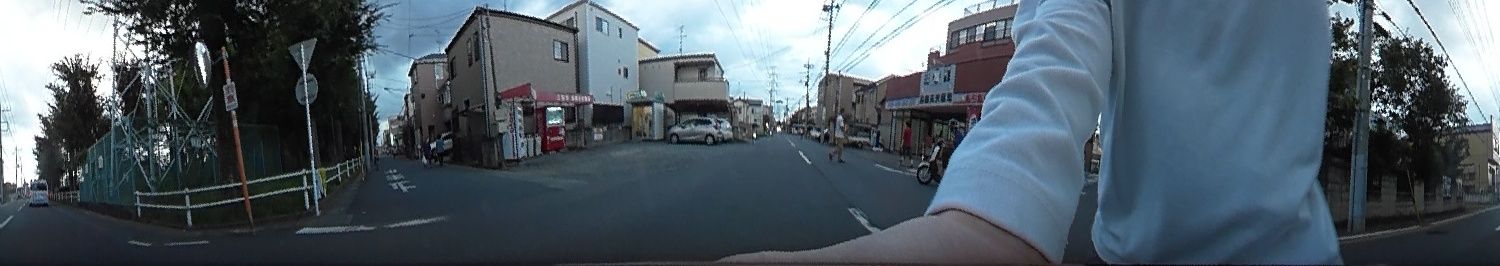difficult_person: (829, 106, 847, 165), (897, 118, 916, 166), (421, 133, 433, 165), (435, 131, 446, 164), (390, 136, 399, 160), (750, 116, 758, 140)
